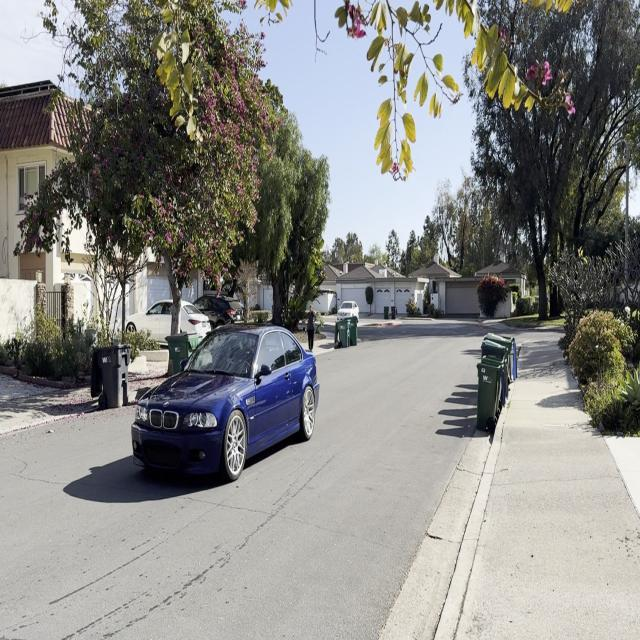Carbeetle: (127, 314, 328, 498)
